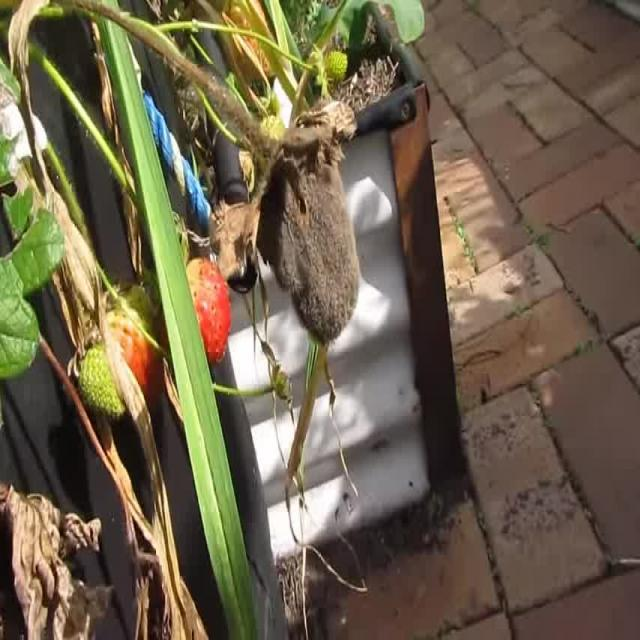Fruta sana: (97, 282, 162, 414), (176, 252, 232, 364), (76, 337, 122, 420)
Moho gris: (252, 130, 363, 332)
